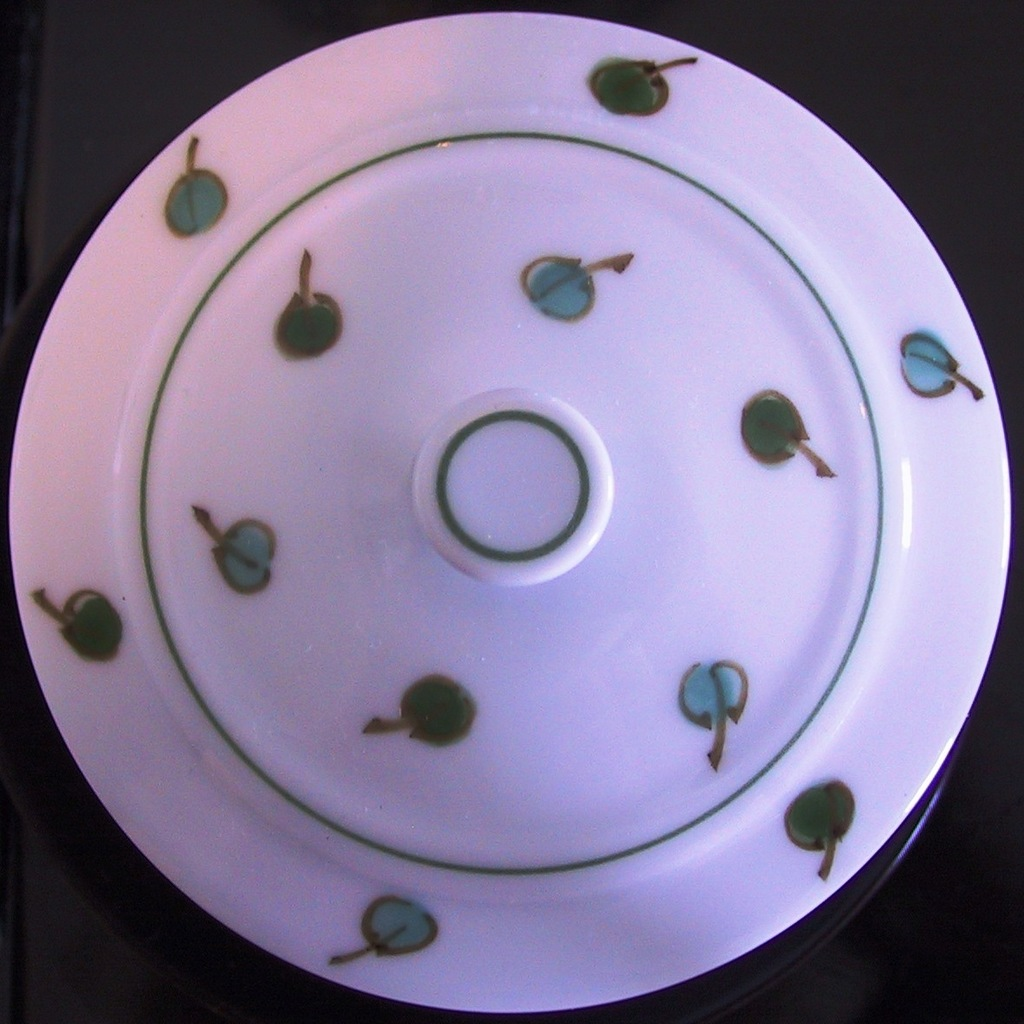plate: (7, 8, 1010, 1017)
